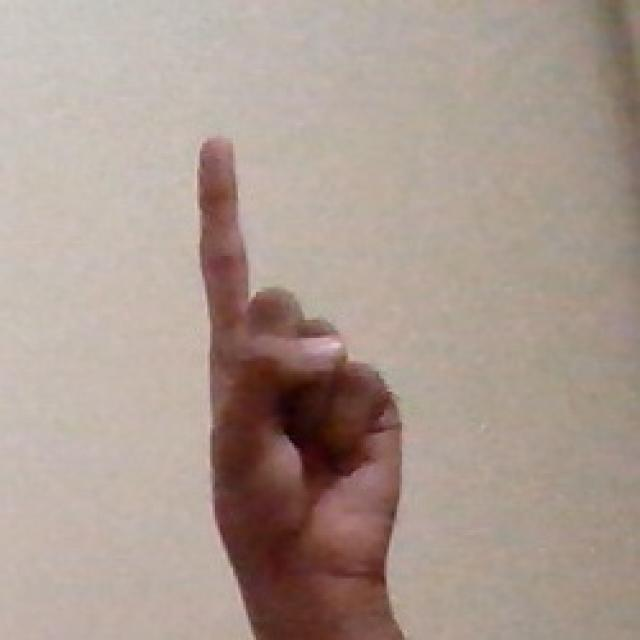Numeric-1: (191, 131, 407, 630)
